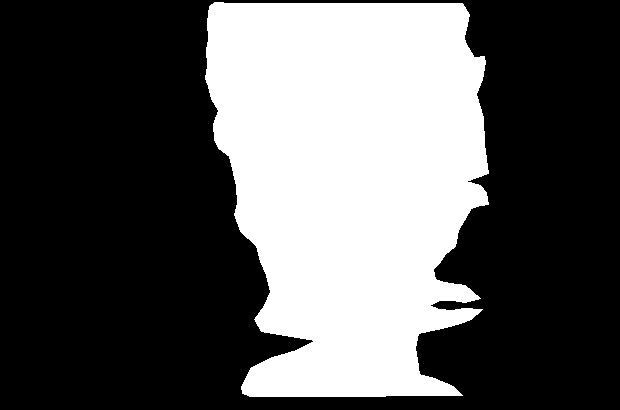type4: (203, 2, 488, 398)
